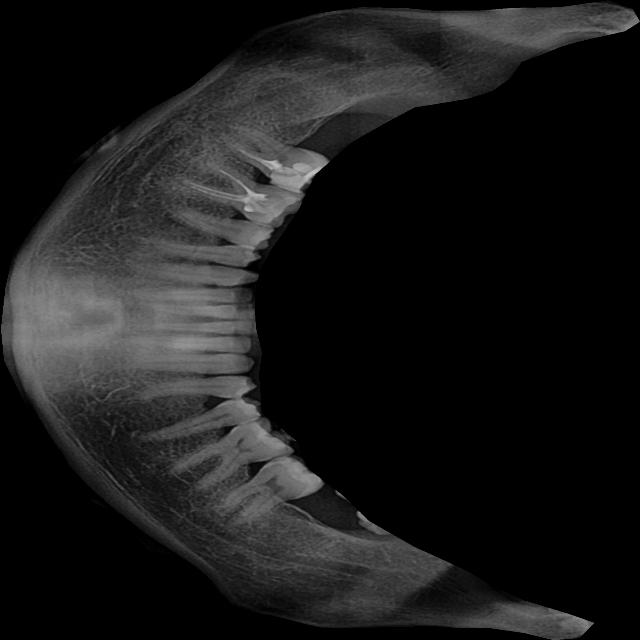mandibula: (0, 0, 639, 640)
